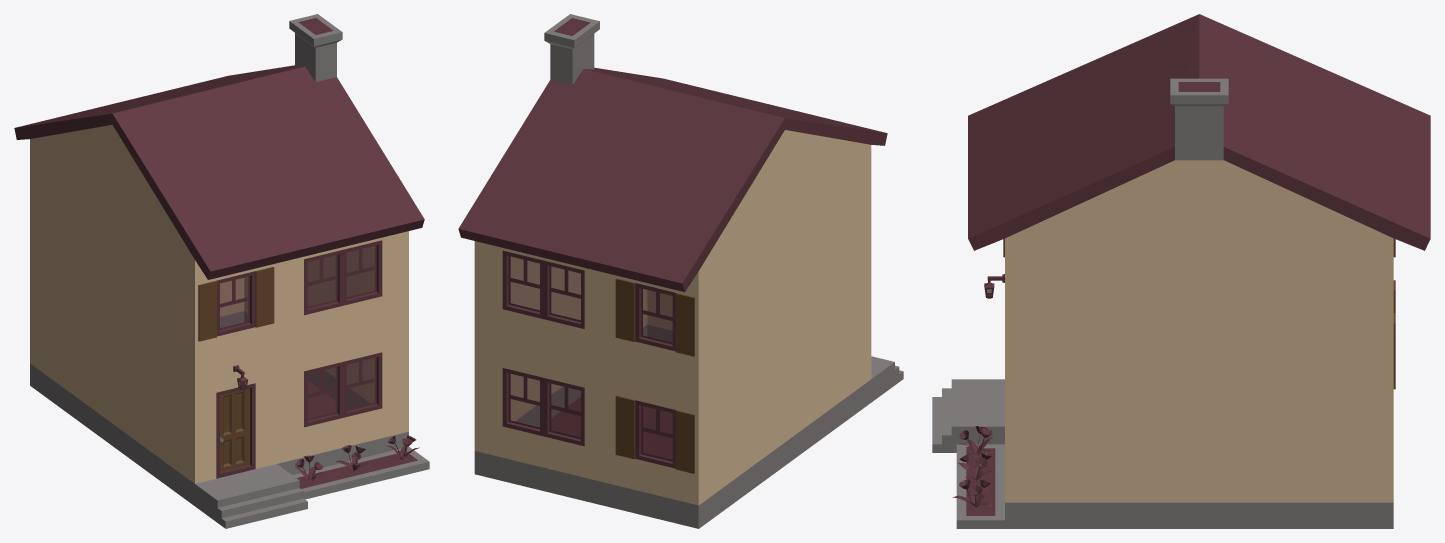
The model's file is building-house-block.fbx.
The picture shows the model from 3 angles, left to right: view 1: azimuth 30°, elevation 25°; view 2: azimuth 150°, elevation 25°; view 3: azimuth 270°, elevation 25°; orthographic projection. The views are drawn at different scales.
Visible parts, largest first — view 1: building-house-block; view 2: building-house-block; view 3: building-house-block.
Part boxes in pixels (bbox=[...]): building-house-block: bbox=[14, 14, 429, 528]; building-house-block: bbox=[458, 14, 903, 528]; building-house-block: bbox=[932, 14, 1430, 528].
Bounding box in the file's own units: 6.1 × 9.9 × 10.26.
